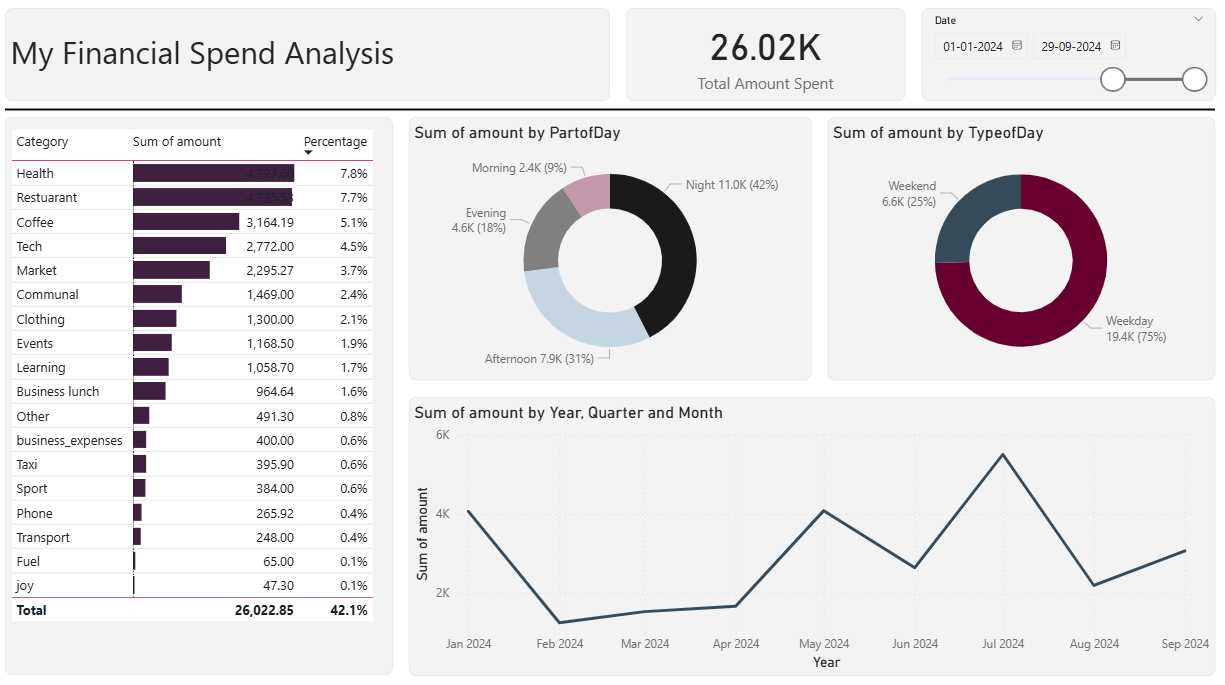

Layout of this report page (visuals, bound fields, positions):
{"tool":"powerbi","page":{"name":"Page 1","canvas":[1280,720],"ordinal":0},"visuals":[{"type":"tableEx","fields":{"Values":["budget_data.category","Sum(budget_data.amount)","budget_data.% of Total"]},"box":[16,128,400,576],"z":0},{"type":"lineChart","fields":{"Y":["Sum(budget_data.amount)"],"Category":["budget_data.Date.Variation.Date Hierarchy.Year","budget_data.Date.Variation.Date Hierarchy.Quarter","budget_data.Date.Variation.Date Hierarchy.Month","budget_data.Date.Variation.Date Hierarchy.Day"]},"box":[432,416,832,288],"z":1000},{"type":"donutChart","fields":{"Category":["budget_data.PartofDay"],"Y":["Sum(budget_data.amount)"]},"box":[432,128,416,272],"z":2000},{"type":"donutChart","fields":{"Category":["WeekdayWeekend.TypeofDay"],"Y":["Sum(budget_data.amount)"]},"box":[864,128,400,272],"z":3000},{"type":"shape","box":[16,112,1248,16],"z":4000},{"type":"textbox","box":[16,16,624,96],"z":5000},{"type":"slicer","fields":{"Values":["budget_data.Date"]},"box":[960,16,304,96],"z":6000},{"type":"card","fields":{"Values":["Sum(budget_data.amount)"]},"box":[656,16,288,96],"z":7000}]}

Visuals, with their boxes in screenshot pixels (x1, y1, x2, y2), scaled from the page's 1280x720 canvas onto the 1225x685 screenshot:
tableEx - budget_data.category x Sum(budget_data.amount): 15 122 398 670
lineChart - Sum(budget_data.amount) x budget_data.Date.Variation.Date Hierarchy.Year: 413 396 1210 670
donutChart - budget_data.PartofDay x Sum(budget_data.amount): 413 122 812 381
donutChart - WeekdayWeekend.TypeofDay x Sum(budget_data.amount): 827 122 1210 381
shape: 15 107 1210 122
textbox: 15 15 612 107
slicer - budget_data.Date: 919 15 1210 107
card - Sum(budget_data.amount): 628 15 903 107
